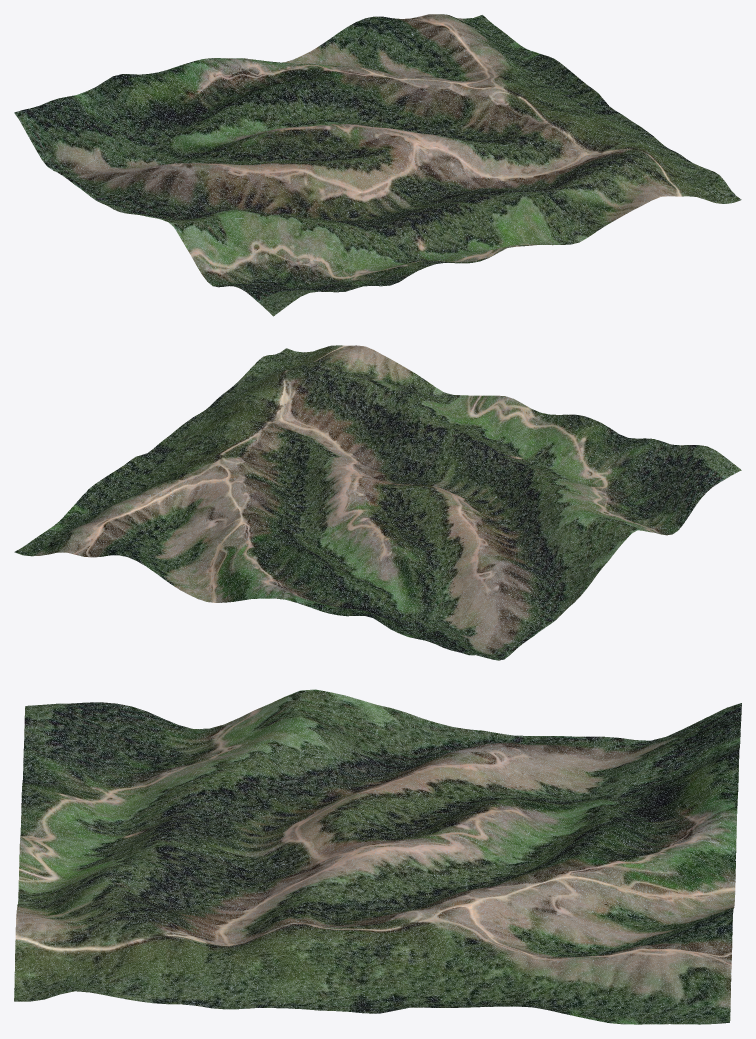
The model's file is adrianopolis2a.dae.
3 renders of one model, top to bottom at view 1: azimuth 30°, elevation 25°; view 2: azimuth 150°, elevation 25°; view 3: azimuth 270°, elevation 25°, orthographic. The views are drawn at different scales.
Parts seen in each view (by area): view 1: SketchUp; view 2: SketchUp; view 3: SketchUp.
Part boxes in pixels (bbox=[...]): SketchUp: bbox=[14, 14, 741, 316]; SketchUp: bbox=[14, 345, 741, 660]; SketchUp: bbox=[14, 689, 741, 1024].
Size of the model in its own units: 79873 by 79613 by 9215.
Materials: 2 (1 with a texture image).
